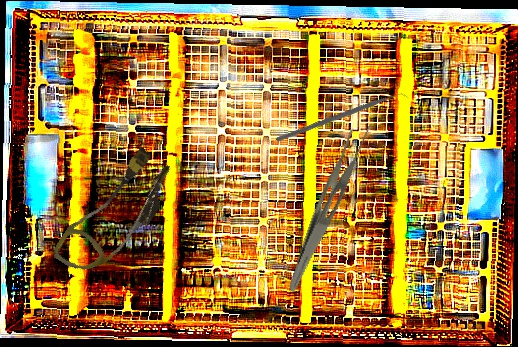Cannula: (50, 137, 182, 291)
Chopper: (275, 48, 412, 191)
Dressing Forceps: (286, 115, 375, 300)
